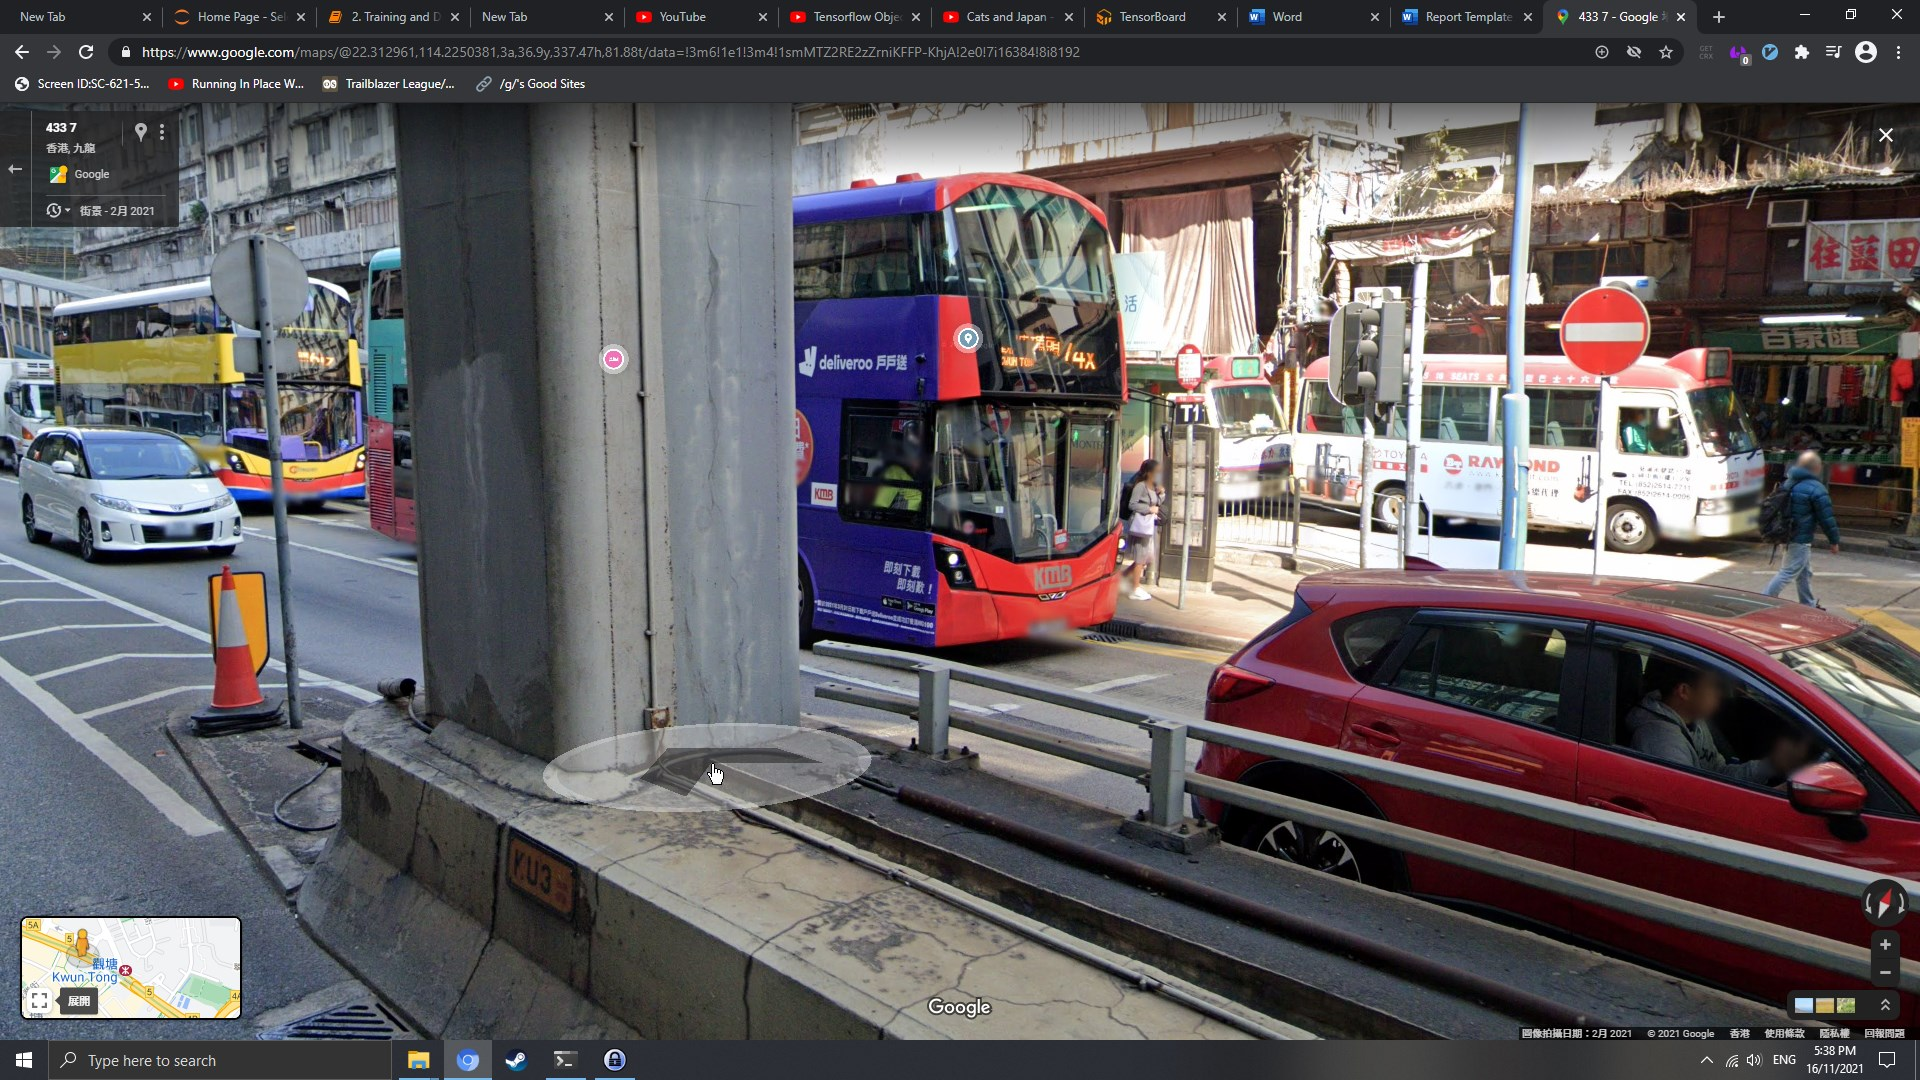NoEntry: (1559, 287, 1651, 376)
